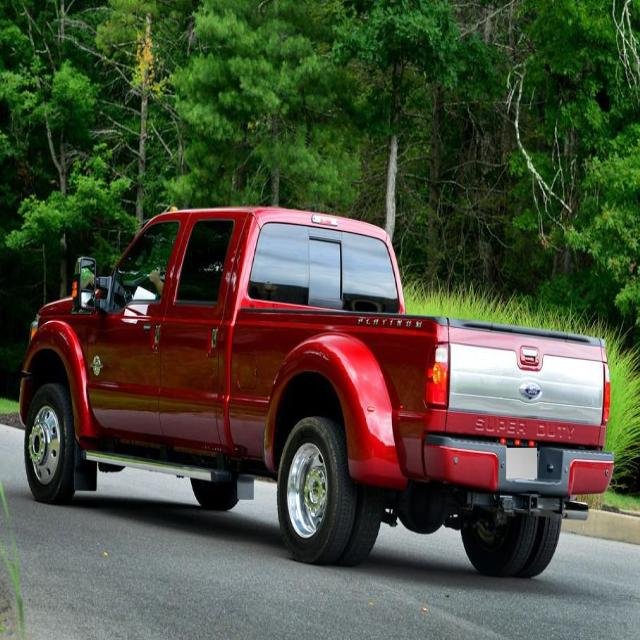back_glass: (247, 219, 402, 317)
back_left_side_light: (424, 340, 452, 412)
back_right_side_light: (601, 360, 613, 425)
door: (160, 210, 238, 435)
front_left_side_door: (83, 206, 190, 444)
front_left_side_mirror: (74, 254, 102, 316)
rear_bumper: (419, 428, 617, 500)
wheel: (276, 415, 362, 561), (23, 384, 70, 497), (462, 509, 540, 576)
